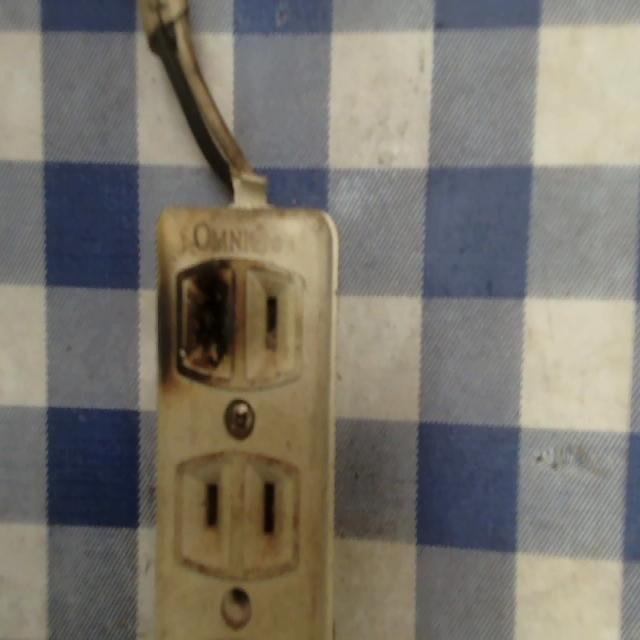-: (161, 255, 246, 389)
